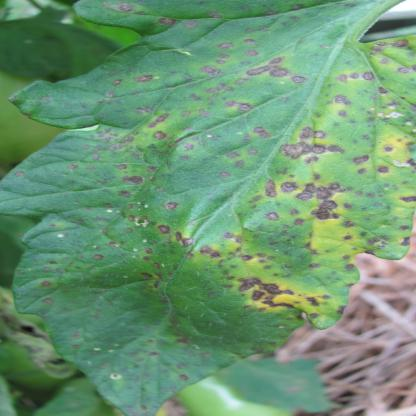tomato septoria leaf spot: (12, 10, 398, 402)
